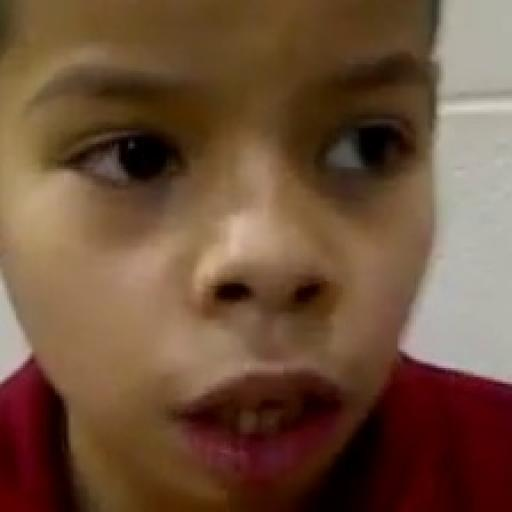Autism: (2, 5, 469, 512)
